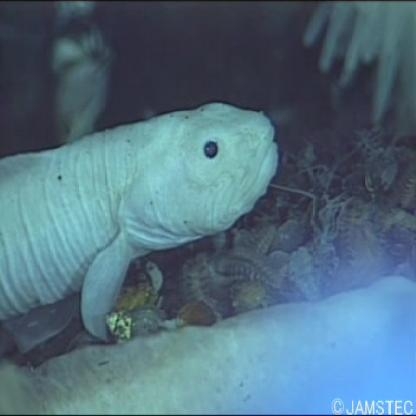Bio: (1, 94, 282, 344)
